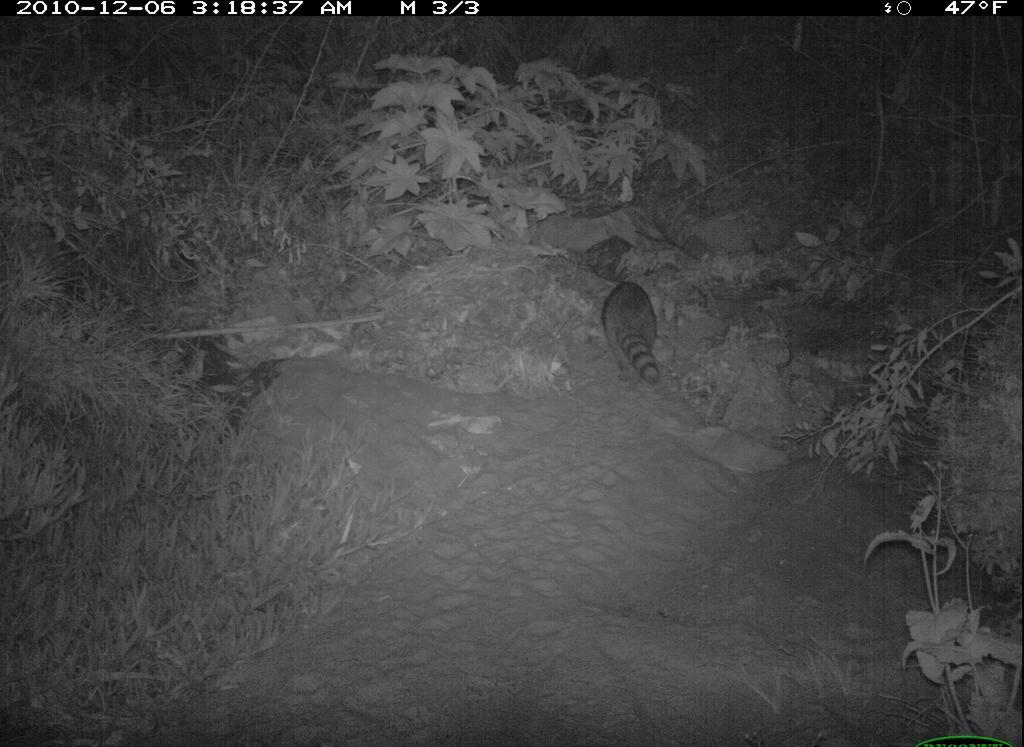raccoon: (593, 273, 671, 388)
